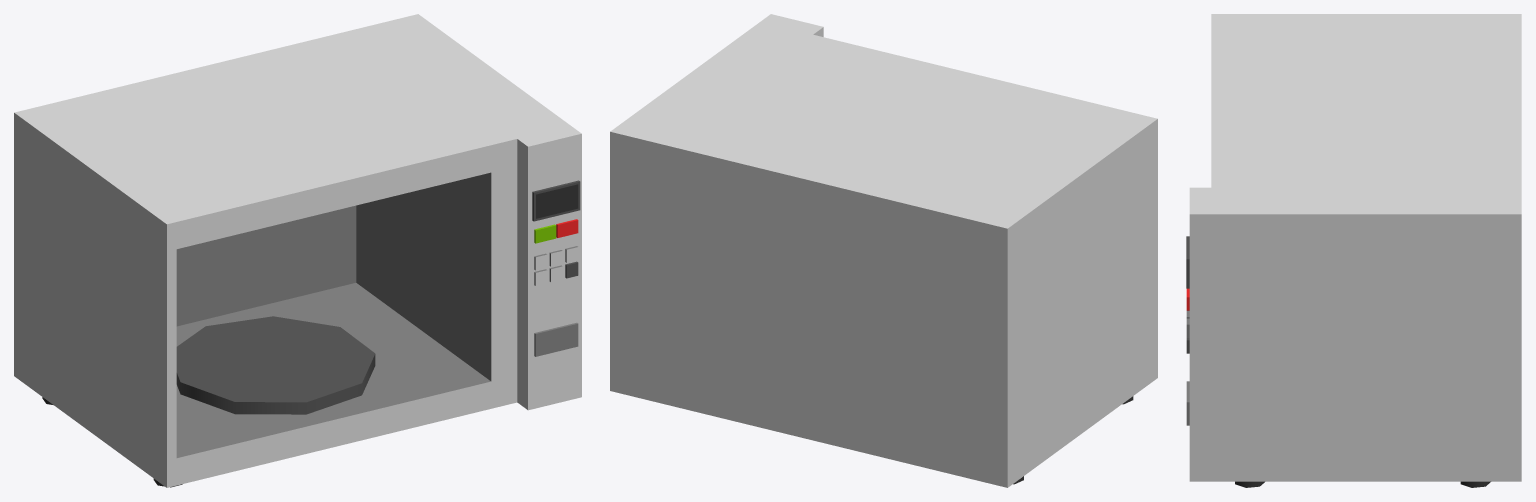
The model's file is Microwave_New.fbx.
3 views of the same model, side by side, from view 1: azimuth 30°, elevation 25°; view 2: azimuth 150°, elevation 25°; view 3: azimuth 270°, elevation 25° (orthographic). The views are drawn at different scales.
Visible parts, largest first — view 1: Microwave_New; view 2: Microwave_New; view 3: Microwave_New.
Part boxes in pixels (x1,y1,x2,y2): Microwave_New: [14, 14, 581, 487]; Microwave_New: [610, 14, 1157, 487]; Microwave_New: [1186, 14, 1521, 487].
Bounding box in the file's own units: 72.48 × 47.19 × 51.26.
